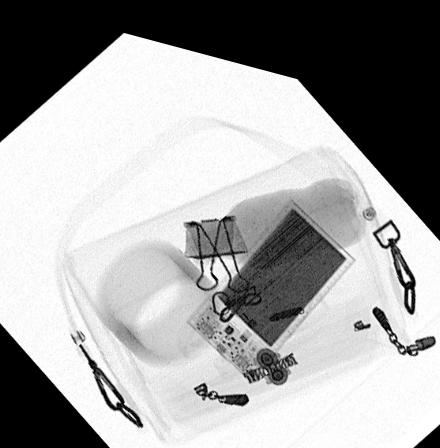Powerbank: (185, 181, 355, 369)
